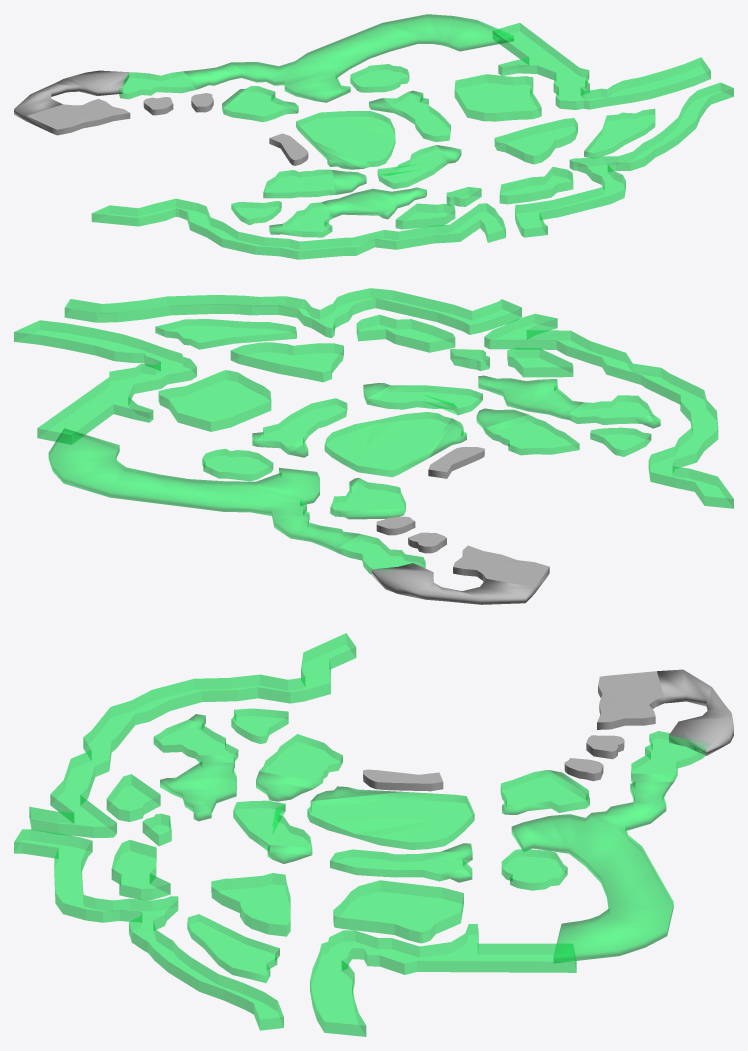
File: jungle_mesh_01.obj
3 renders of one model, top to bottom at view 1: azimuth 30°, elevation 25°; view 2: azimuth 150°, elevation 25°; view 3: azimuth 270°, elevation 25°, orthographic. The views are drawn at different scales.
Parts seen in each view (by area): view 1: pb-MergedObject-14013442_1, pb-MergedObject-14013442_3, pb-MergedObject-14013442_0, pb-MergedObject-14013442_2; view 2: pb-MergedObject-14013442_1, pb-MergedObject-14013442_3, pb-MergedObject-14013442_0, pb-MergedObject-14013442_2; view 3: pb-MergedObject-14013442_1, pb-MergedObject-14013442_3, pb-MergedObject-14013442_0, pb-MergedObject-14013442_2.
Part boxes in pixels (x1,y1,x2,y2): pb-MergedObject-14013442_1: (91,14,733,259); pb-MergedObject-14013442_3: (119,64,655,237); pb-MergedObject-14013442_0: (14,70,308,165); pb-MergedObject-14013442_2: (27,93,307,160); pb-MergedObject-14013442_1: (14,288,733,574); pb-MergedObject-14013442_3: (156,319,652,574); pb-MergedObject-14013442_0: (372,449,549,604); pb-MergedObject-14013442_2: (376,447,549,587); pb-MergedObject-14013442_1: (14,633,705,1036); pb-MergedObject-14013442_3: (154,708,710,982); pb-MergedObject-14013442_0: (363,669,733,791); pb-MergedObject-14013442_2: (363,671,663,790).
Size of the model in its own units: 339 by 5.07 by 263.
